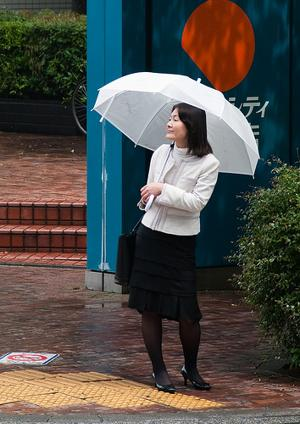person: (128, 104, 222, 395)
